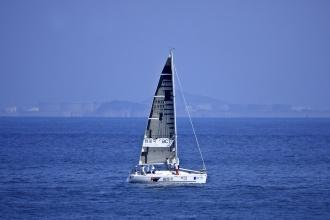fanchuan: (123, 50, 212, 187)
